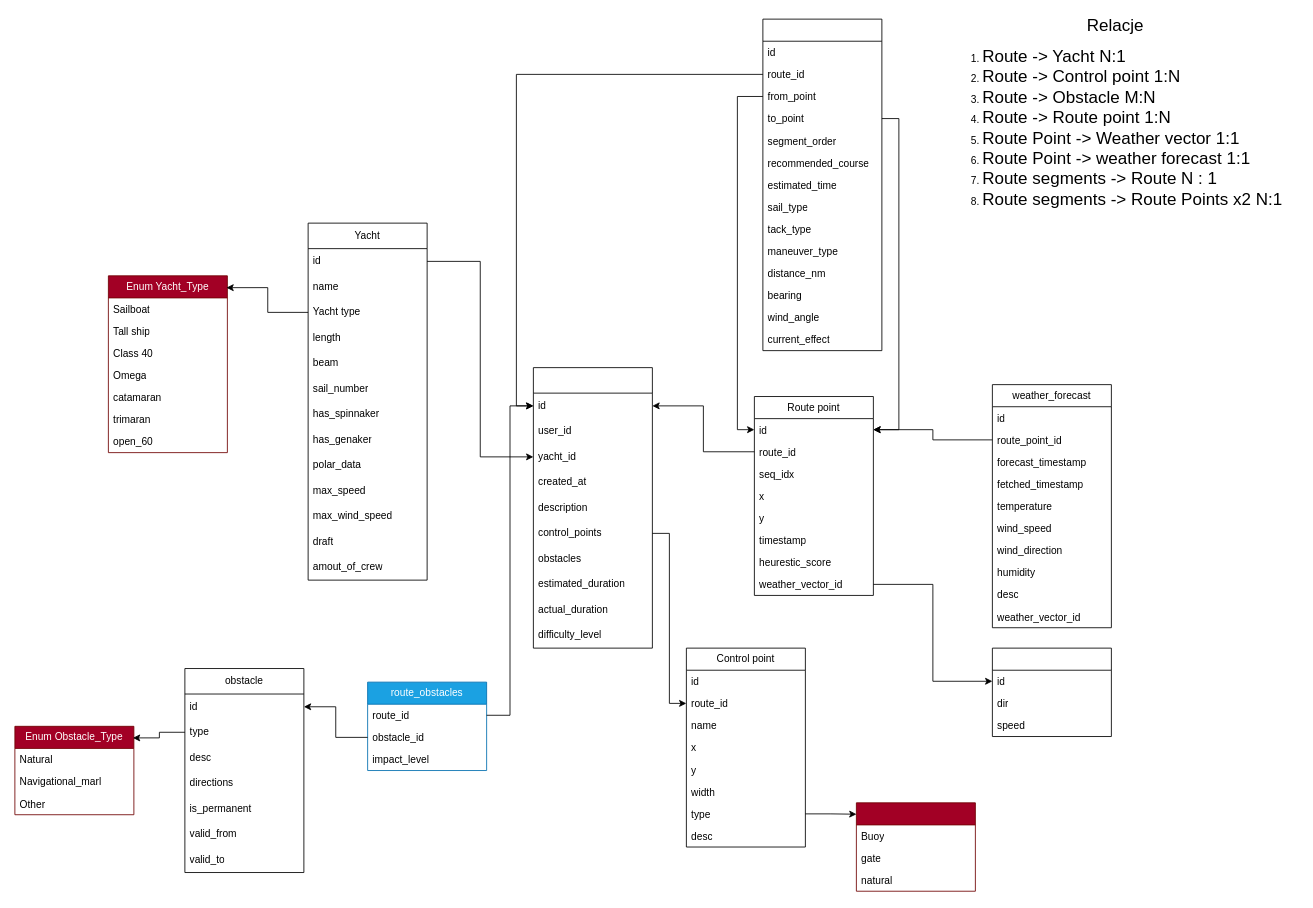
The diagram is 1313 pixels wide and 908 high, and some of its shapes have lost their labels. Here are the shapes that lost their labels. From the top down, the box of each, then its label:
(762, 18, 882, 351): Route Segments
(533, 367, 652, 648): Route
(992, 647, 1111, 737): weather_vector
(856, 802, 975, 891): Enum Control_point_Type
